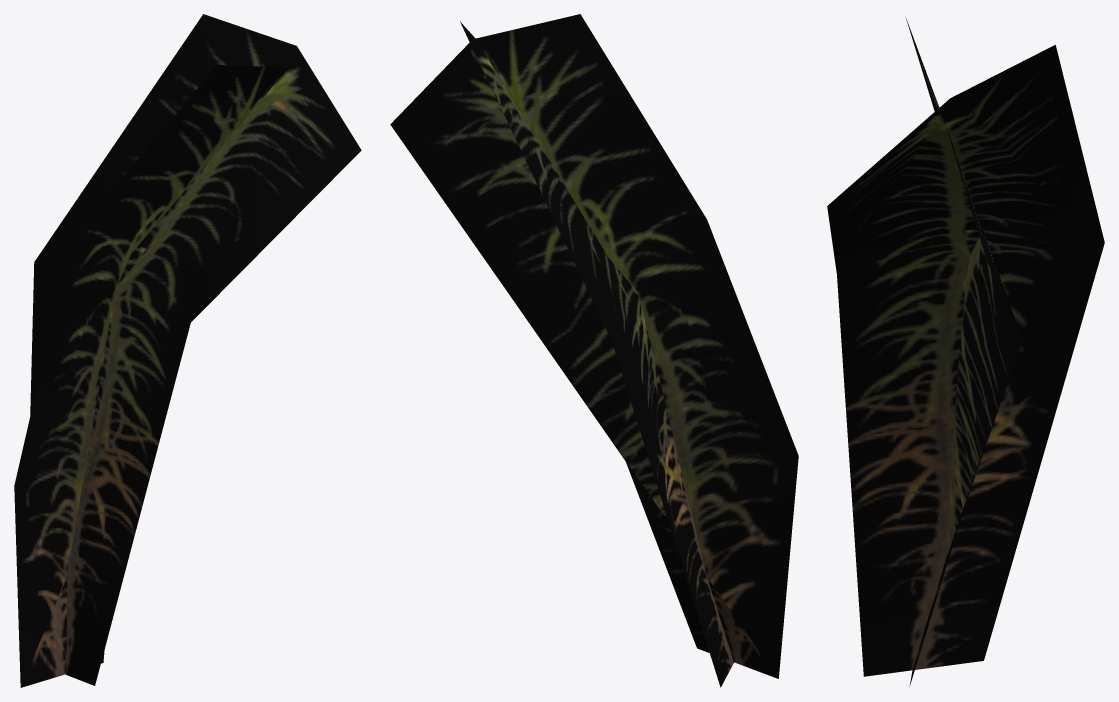
File: moss_01_k.glb
3 views of the same model, side by side, from view 1: azimuth 30°, elevation 25°; view 2: azimuth 150°, elevation 25°; view 3: azimuth 270°, elevation 25° (orthographic). The views are drawn at different scales.
Parts seen in each view (by area): view 1: moss_01_tall_a_LOD0; view 2: moss_01_tall_a_LOD0; view 3: moss_01_tall_a_LOD0.
Boxes of the visible parts, box(x1,y1,x2,y2) form: moss_01_tall_a_LOD0: box(14, 14, 361, 687); moss_01_tall_a_LOD0: box(390, 14, 798, 687); moss_01_tall_a_LOD0: box(827, 17, 1104, 686).
Size of the model in its own units: 0.0214 by 0.0336 by 0.0112.
1 material, 1 textured.
